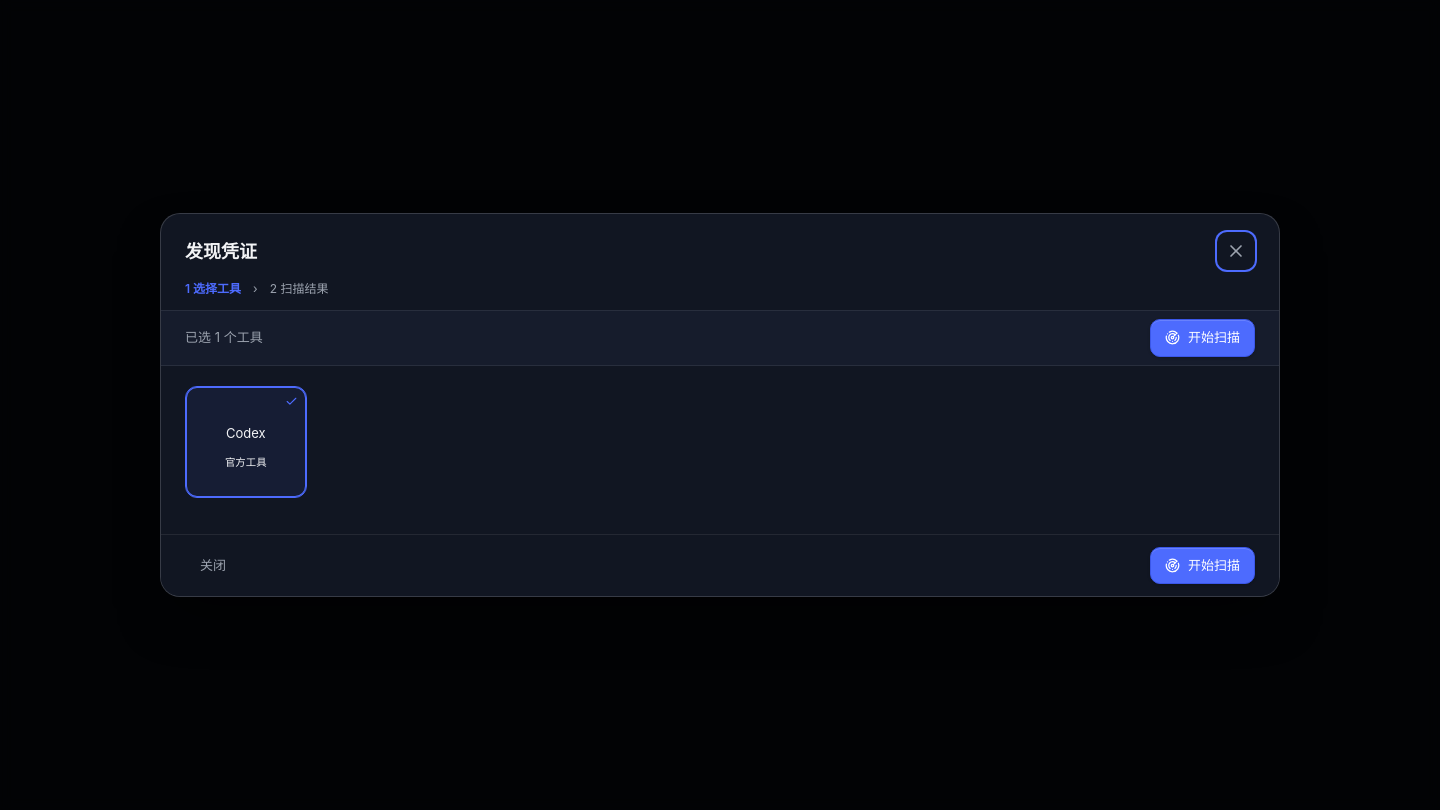
Test: binds a local scan and its import to the explicitly chosen second channel
expect the text "Codex" is shown: met, box [226, 424, 266, 443]
Click the button "开始扫描" in the row of "个工具": [1202, 338] box [1150, 319, 1255, 356]
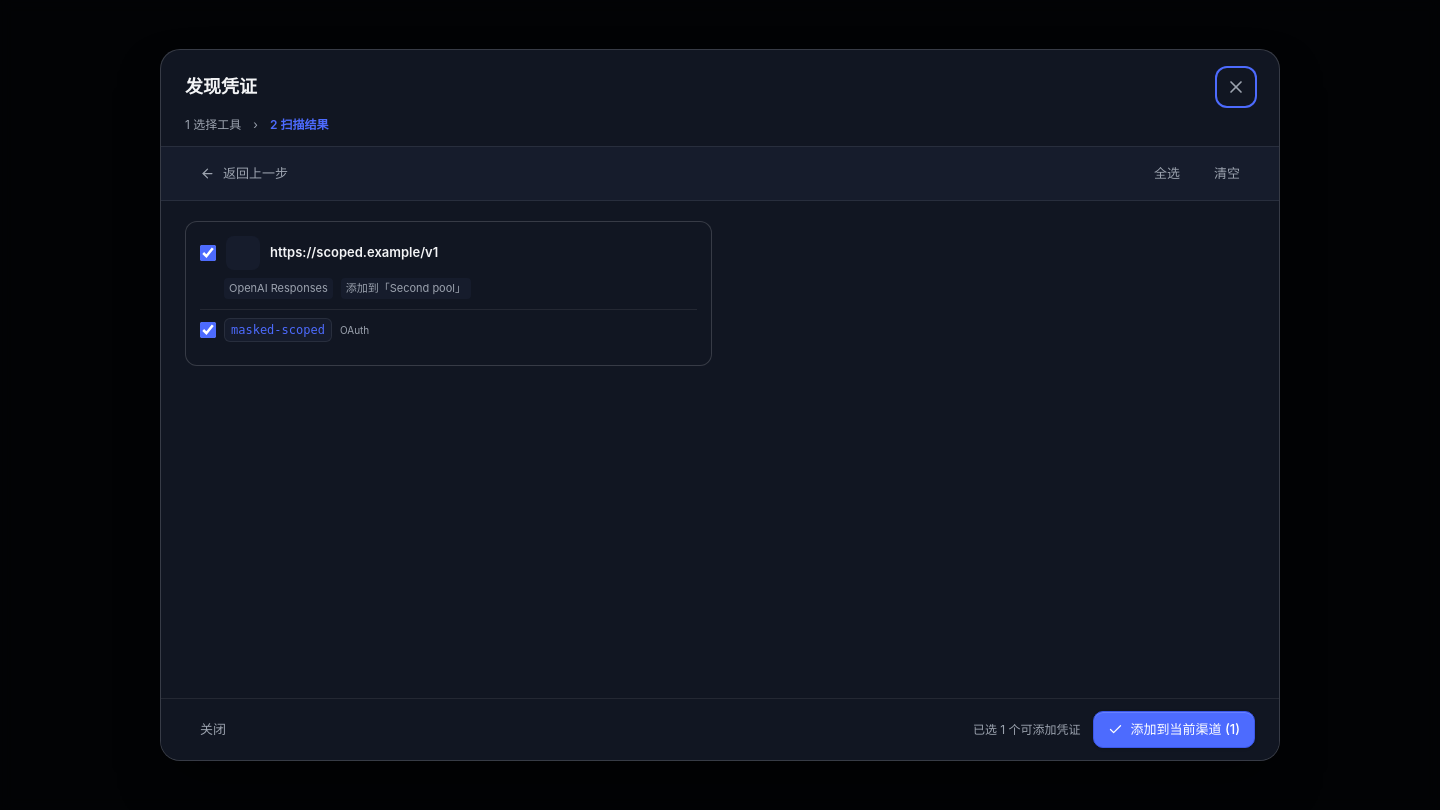
expect the button "添加到当前渠道 (1)" is shown: met
expect the text "添加到「Second pool」" is shown: met, box [341, 278, 471, 299]
Click the button "添加到当前渠道 (1)": [1174, 730] box [1092, 711, 1255, 748]
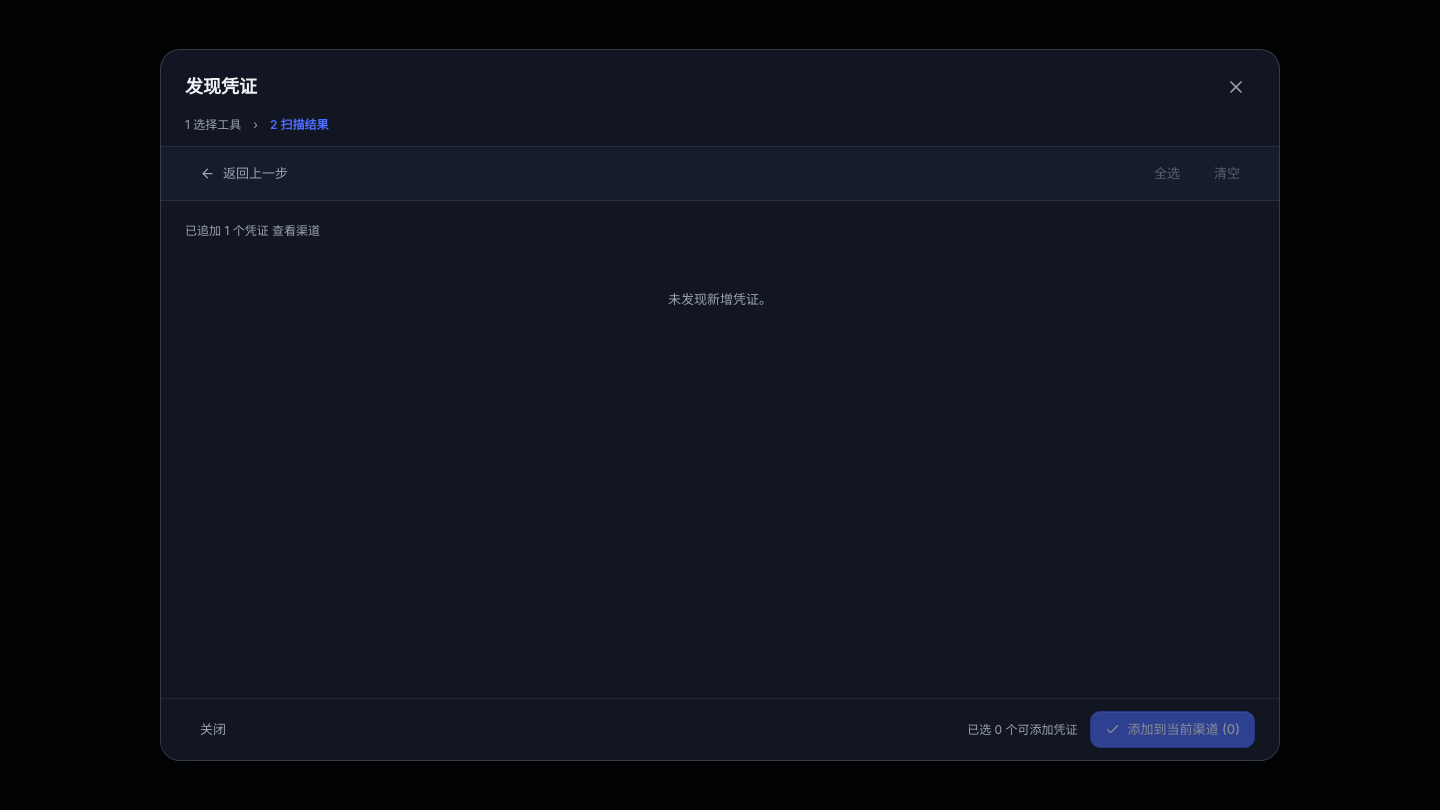
expect the text "已追加 1 个凭证" is shown: met, box [185, 223, 320, 238]
